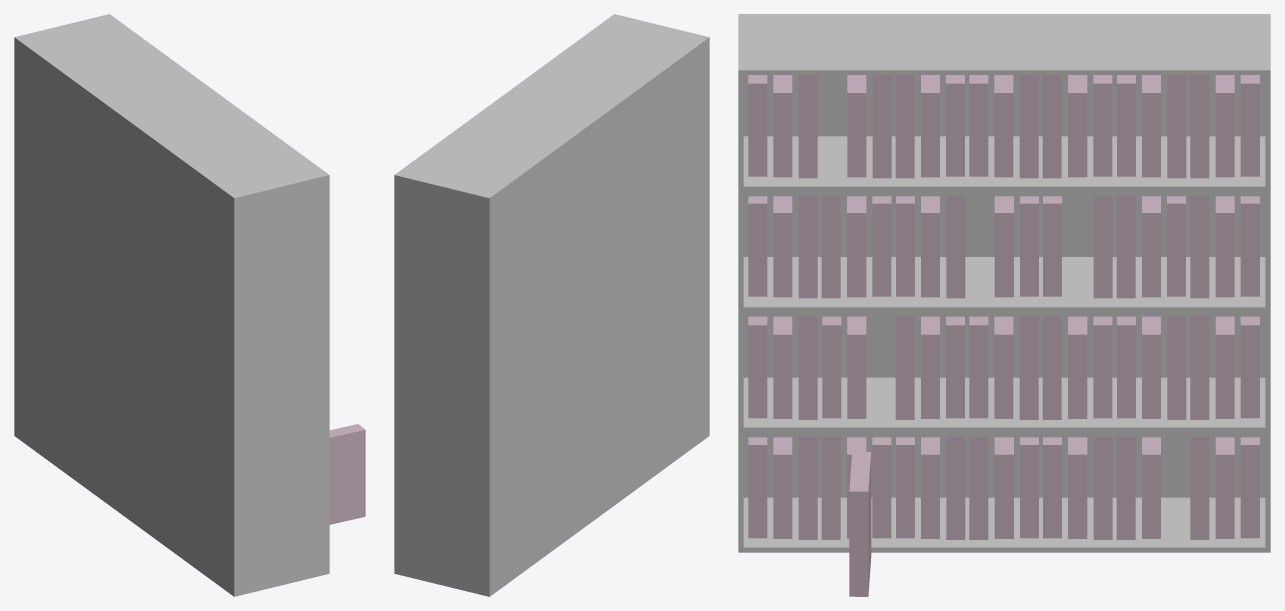
The model's file is shelf_spaces4.fbx.
3 renders of one model, left to right at view 1: azimuth 30°, elevation 25°; view 2: azimuth 150°, elevation 25°; view 3: azimuth 270°, elevation 25°, orthographic. The views are drawn at different scales.
Parts seen in each view (by area): view 1: shelf, books.002; view 2: shelf; view 3: books, shelf, books.002.
Boxes of the visible parts, left/top/right/bottom form: shelf: left=14, top=14, right=329, bottom=596; books.002: left=329, top=424, right=365, bottom=524; shelf: left=394, top=14, right=709, bottom=596; books: left=748, top=75, right=1259, bottom=539; shelf: left=738, top=14, right=1270, bottom=552; books.002: left=849, top=451, right=871, bottom=596.
Bounding box in the file's own units: 186 × 400 × 400.
